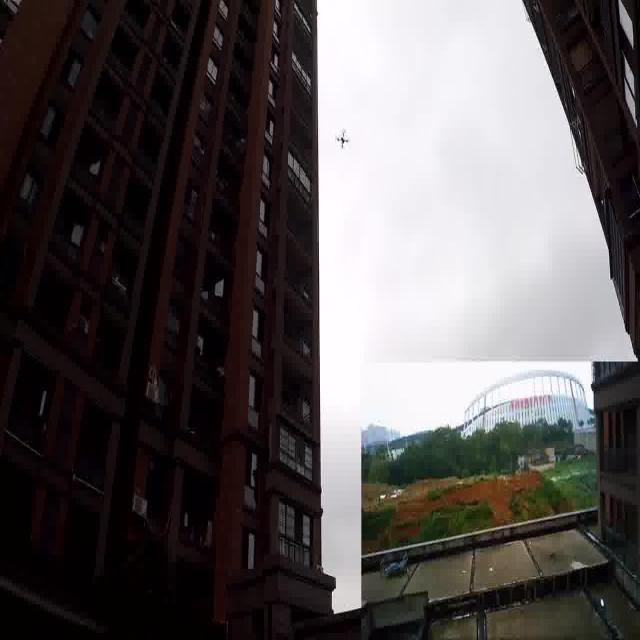drone: (334, 124, 349, 148)
